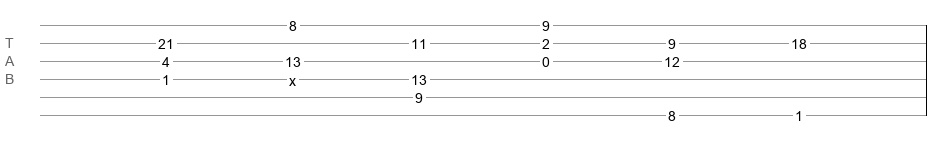0: (542, 54, 550, 64)
1: (162, 72, 170, 82), (795, 108, 803, 118)
11: (411, 36, 427, 46)
12: (664, 54, 680, 64)
13: (285, 54, 301, 64), (411, 72, 427, 82)
18: (791, 36, 807, 46)
2: (542, 36, 550, 46)
21: (158, 36, 174, 46)
4: (162, 54, 170, 64)
8: (289, 18, 297, 28), (668, 108, 676, 118)
9: (415, 90, 423, 100), (542, 18, 550, 28), (668, 36, 676, 46)
x: (289, 73, 296, 81)
